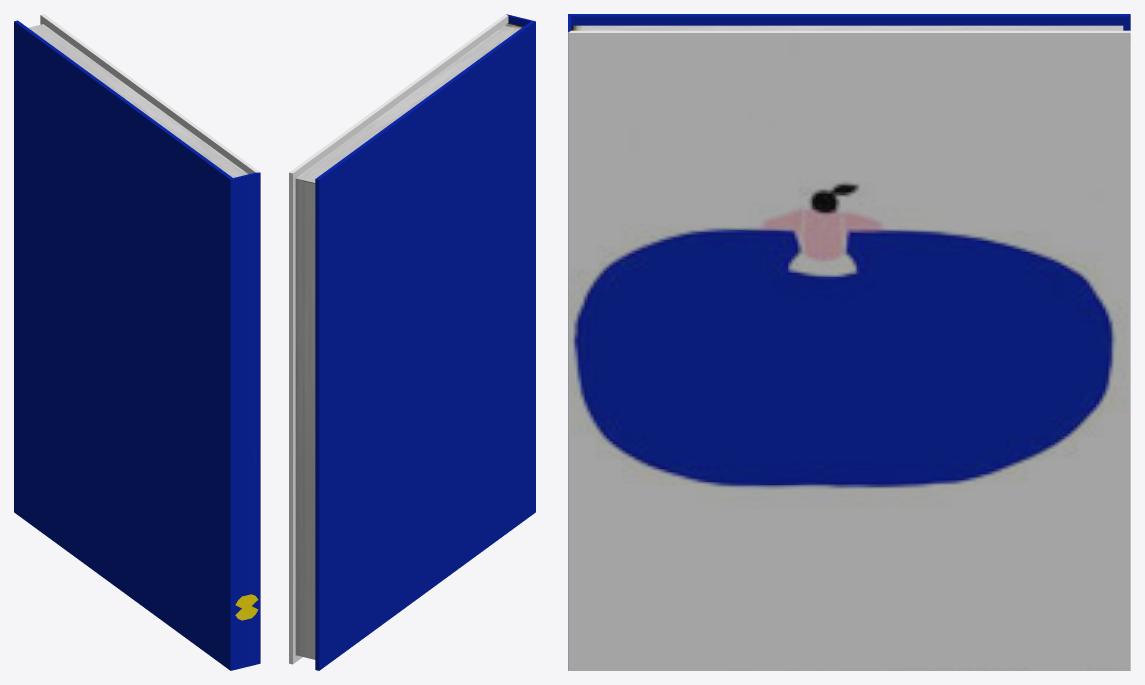
Rendered from Book_3_Organized.fbx.
3 renders of one model, left to right at view 1: azimuth 30°, elevation 25°; view 2: azimuth 150°, elevation 25°; view 3: azimuth 270°, elevation 25°, orthographic. The views are drawn at different scales.
Parts seen in each view (by area): view 1: books_seperae.036; view 2: books_seperae.036; view 3: books_seperae.036.
Part boxes in pixels (x1=…): books_seperae.036: x1=14, y1=14, x2=260, y2=670; books_seperae.036: x1=289, y1=14, x2=535, y2=670; books_seperae.036: x1=568, y1=14, x2=1130, y2=670.
Bounding box in the file's own units: 1.8 × 28.01 × 22.54.
